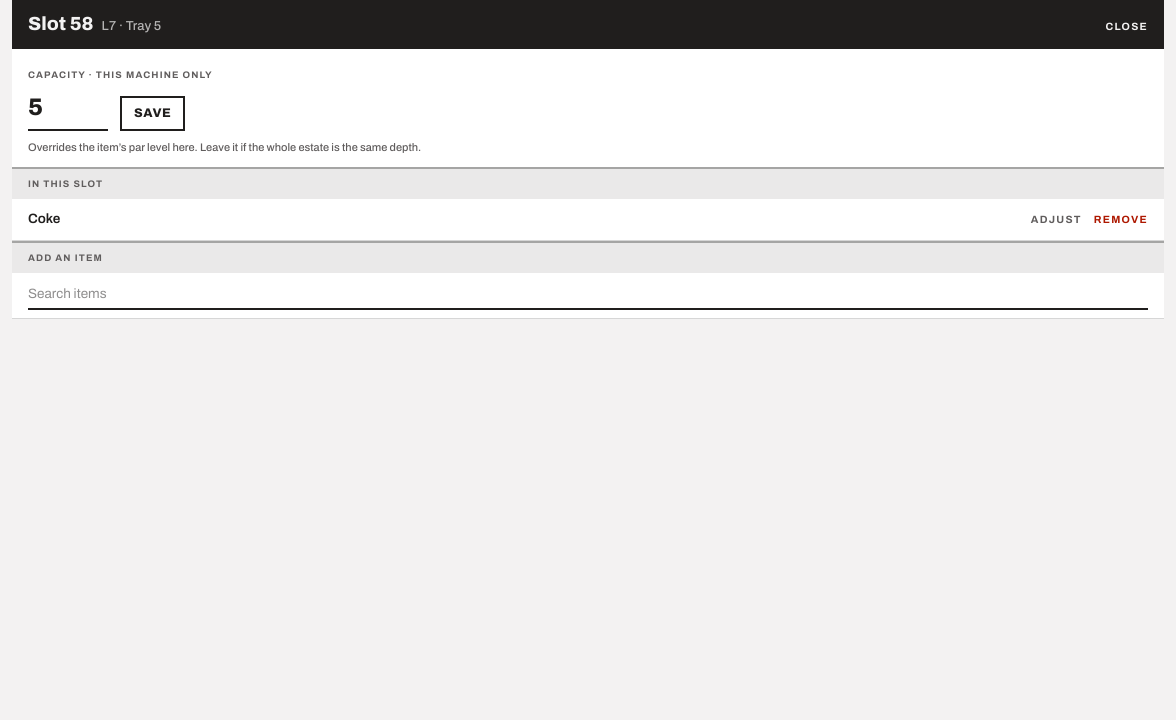
Test: SlotEditSheet › opens the adjustment sheet for an item in the slot
Click the button with aria-label "Adjust Coke" at (1056, 219), box [1031,212,1082,227]
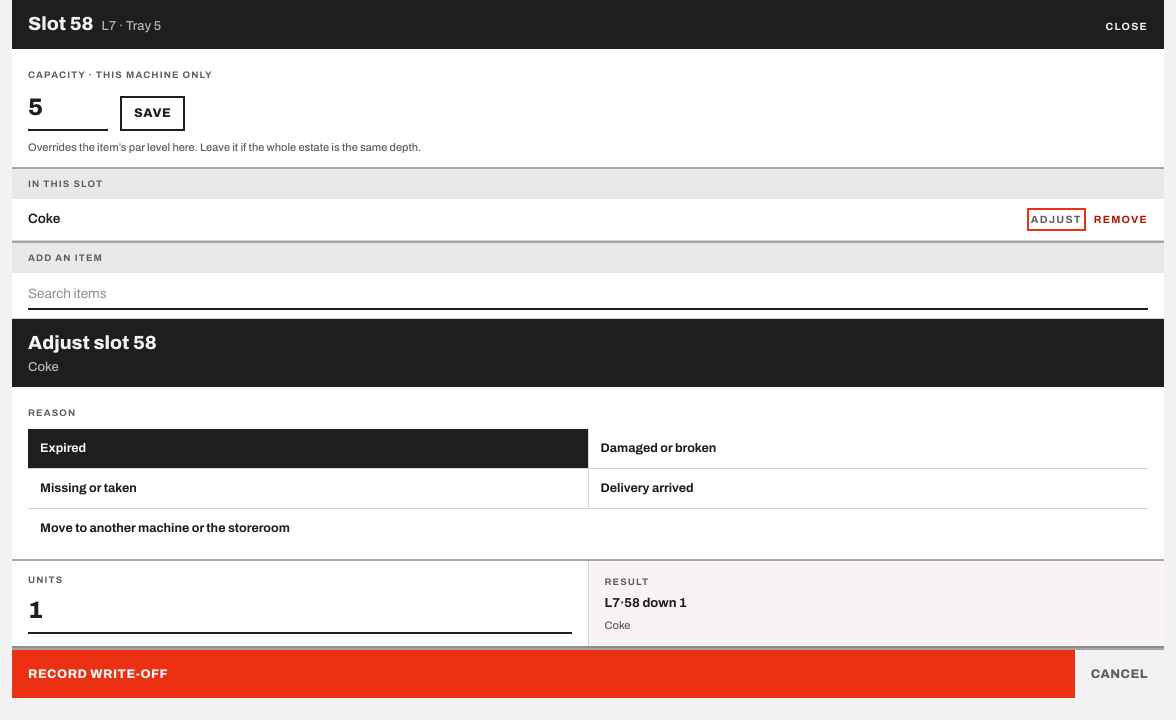
expect the number field labelled "Units" is shown: met, box [28,592,572,634]
